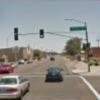traffic lights: (39, 29, 44, 38)
